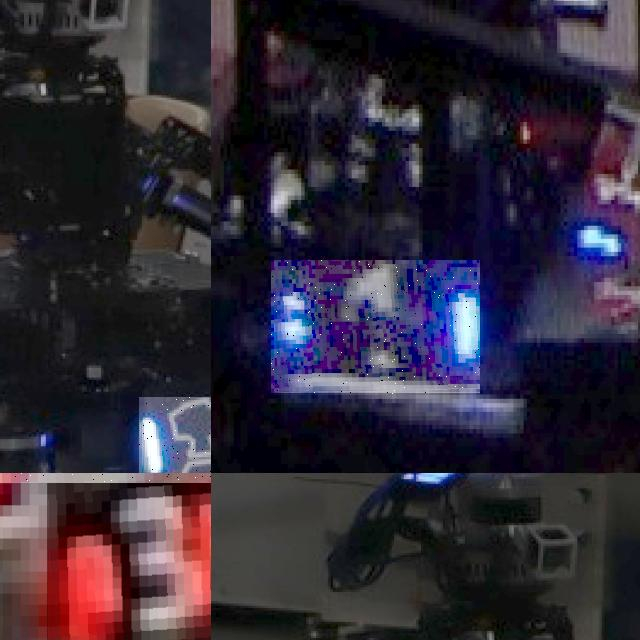B1: (271, 260, 480, 394)
Bs: (139, 396, 211, 473)
R3: (47, 483, 211, 640)
